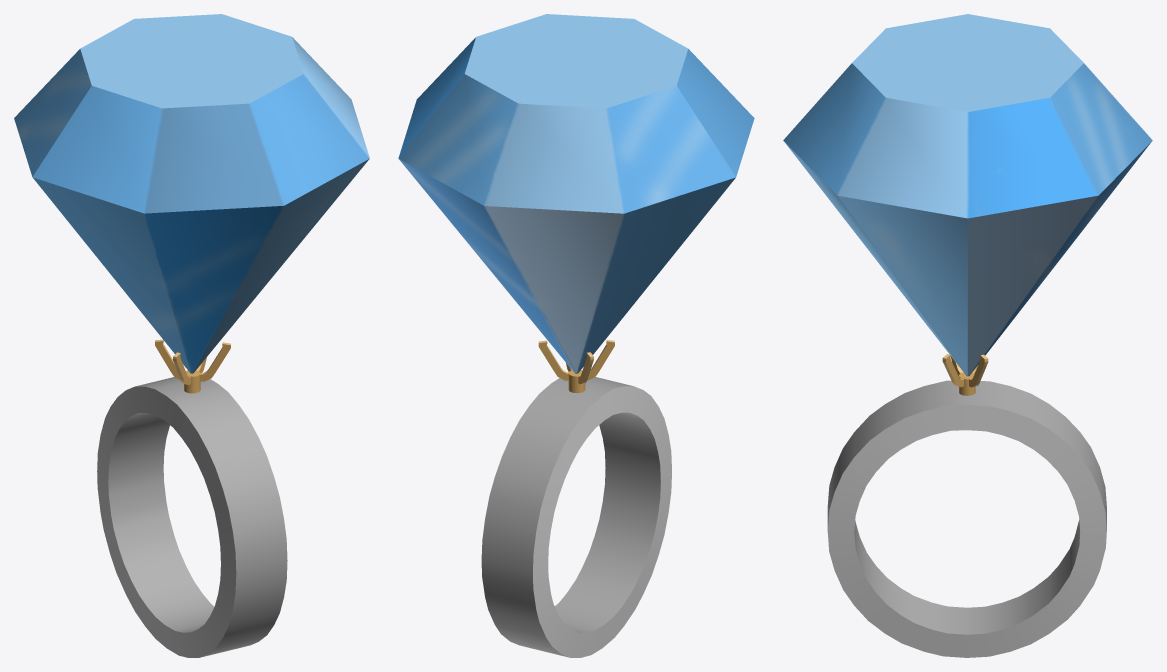
Rendered from anel_de_diamantes_imperio.glb.
The picture shows the model from 3 angles, left to right: view 1: azimuth 30°, elevation 25°; view 2: azimuth 150°, elevation 25°; view 3: azimuth 270°, elevation 25°; orthographic projection.
Visible parts, largest first — view 1: Diamond_Ring.1_1; view 2: Diamond_Ring.1_1; view 3: Diamond_Ring.1_1.
Boxes of the visible parts, box(x1,y1,x2,y2) form: Diamond_Ring.1_1: box(14, 14, 369, 657); Diamond_Ring.1_1: box(398, 14, 754, 657); Diamond_Ring.1_1: box(783, 14, 1152, 657).
Bounding box in the file's own units: 0.0546 × 0.0948 × 0.0546.
1 material, 1 textured.
